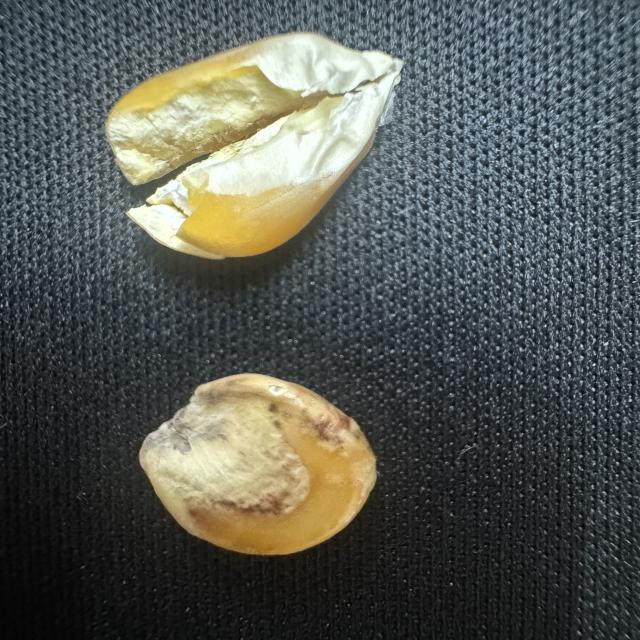Bad-Seed: (102, 26, 412, 266), (138, 368, 380, 559)
